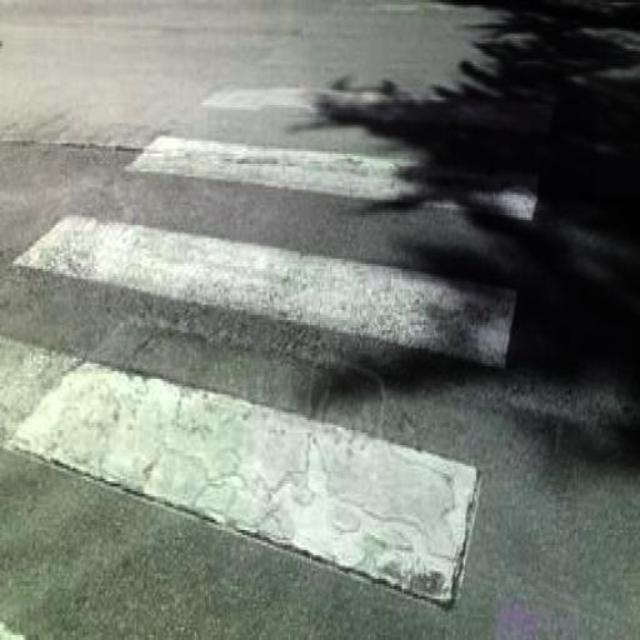sidewalk: (0, 0, 570, 610)
